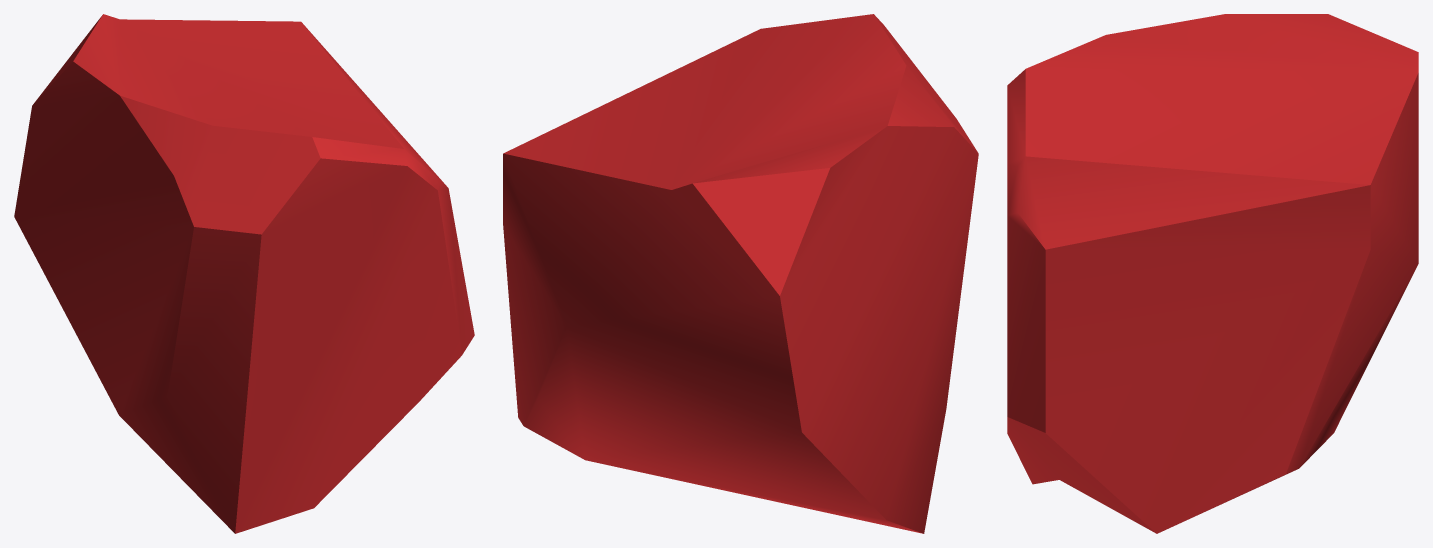
Rendered from Stone.fbx.
The picture shows the model from 3 angles, left to right: view 1: azimuth 30°, elevation 25°; view 2: azimuth 150°, elevation 25°; view 3: azimuth 270°, elevation 25°; orthographic projection. The views are drawn at different scales.
Visible parts, largest first — view 1: Stone; view 2: Stone; view 3: Stone.
Part boxes in pixels (bbox=[...]): Stone: bbox=[14, 14, 474, 533]; Stone: bbox=[503, 14, 978, 533]; Stone: bbox=[1007, 14, 1418, 533].
Size of the model in its own units: 180 by 234 by 200.
